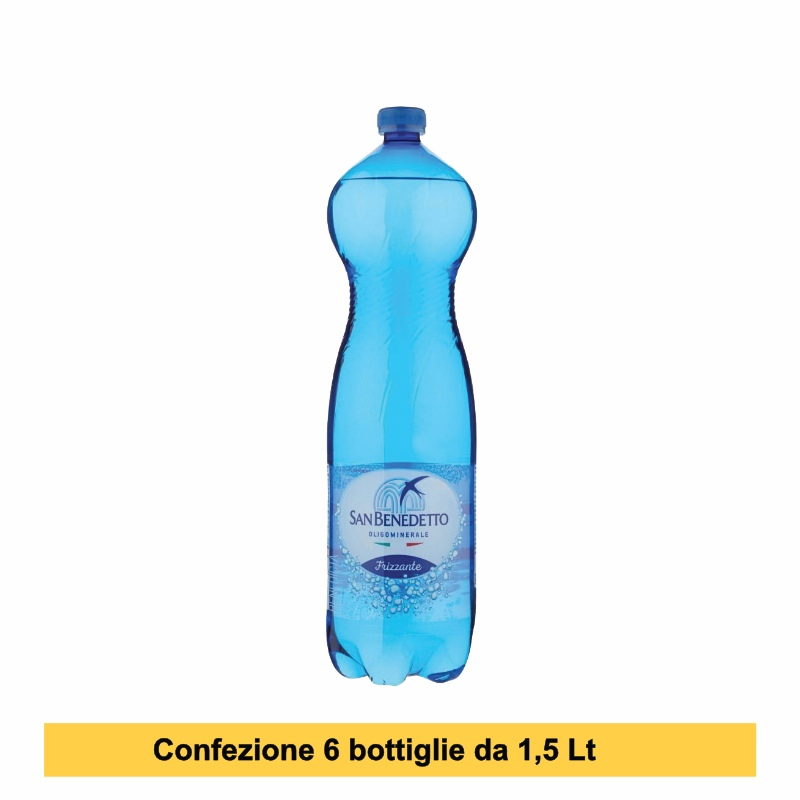PlasticBottle: (319, 97, 485, 698)
